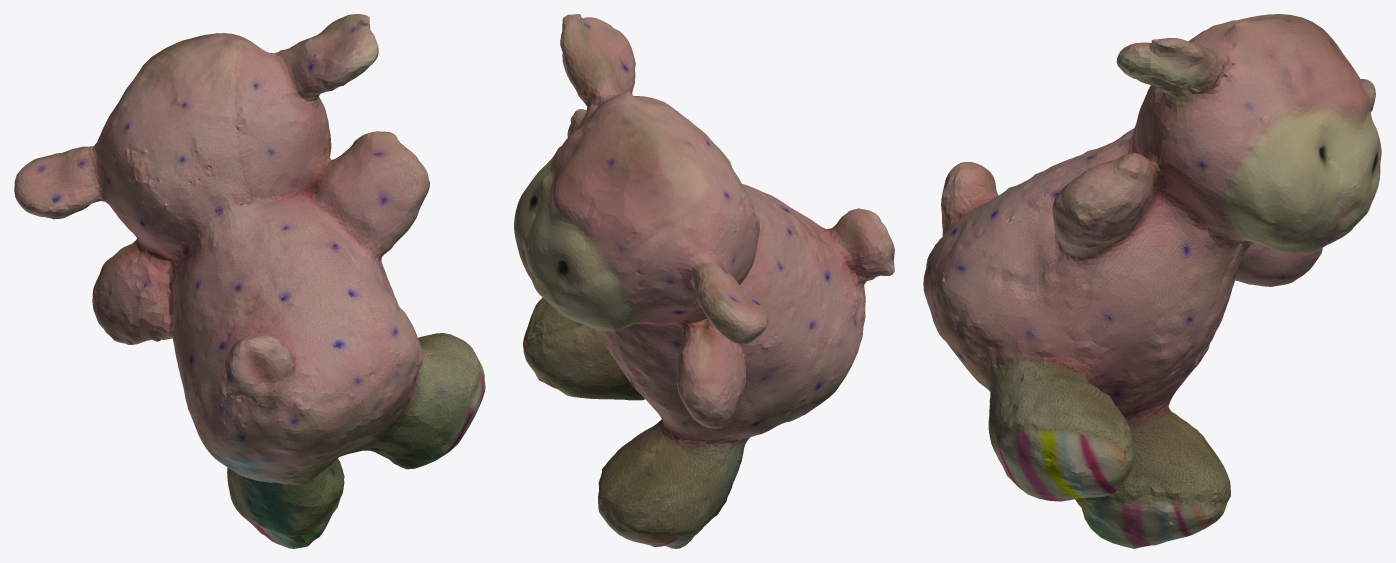
The model's file is BRT2.obj.
3 renders of one model, left to right at view 1: azimuth 30°, elevation 25°; view 2: azimuth 150°, elevation 25°; view 3: azimuth 270°, elevation 25°, orthographic. The views are drawn at different scales.
Size of the model in its own units: 8.07 by 11.35 by 8.51.
Materials: 1 (1 with a texture image).
